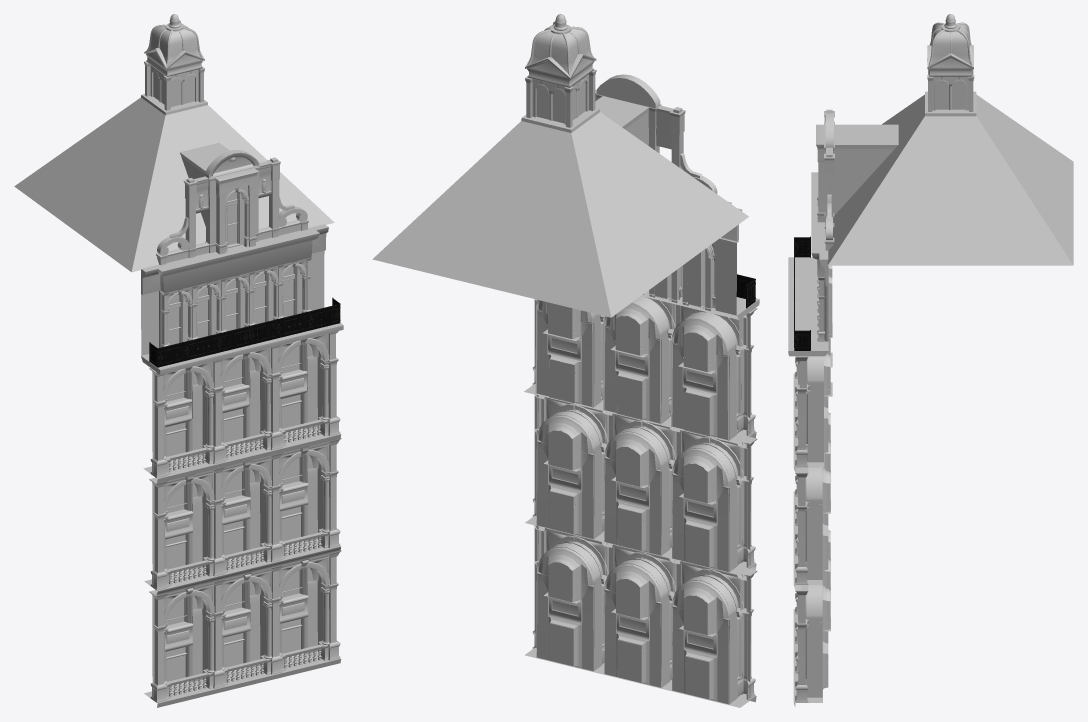
The model's file is backup.fbx.
The picture shows the model from 3 angles, left to right: view 1: azimuth 30°, elevation 25°; view 2: azimuth 150°, elevation 25°; view 3: azimuth 270°, elevation 25°; orthographic projection. The views are drawn at different scales.
Parts seen in each view (by area): view 1: LODGroup_1_MainMesh_1_SubMesh_1, LODGroup_1_MainMesh_1_SubMesh_6, LODGroup_1_MainMesh_1_SubMesh_4, LODGroup_1_MainMesh_1_SubMesh_2, LODGroup_1_MainMesh_1_SubMesh_3, LODGroup_1_MainMesh_1_SubMesh_5; view 2: LODGroup_1_MainMesh_1_SubMesh_1, LODGroup_1_MainMesh_1_SubMesh_6, LODGroup_1_MainMesh_1_SubMesh_3; view 3: LODGroup_1_MainMesh_1_SubMesh_6, LODGroup_1_MainMesh_1_SubMesh_1, LODGroup_1_MainMesh_1_SubMesh_3, LODGroup_1_MainMesh_1_SubMesh_4.
Boxes of the visible parts, x1,y1,x2,y2 form: LODGroup_1_MainMesh_1_SubMesh_1: [141, 14, 343, 707]; LODGroup_1_MainMesh_1_SubMesh_6: [14, 97, 334, 272]; LODGroup_1_MainMesh_1_SubMesh_4: [149, 297, 340, 367]; LODGroup_1_MainMesh_1_SubMesh_2: [169, 424, 321, 696]; LODGroup_1_MainMesh_1_SubMesh_3: [141, 157, 324, 355]; LODGroup_1_MainMesh_1_SubMesh_5: [167, 419, 323, 685]; LODGroup_1_MainMesh_1_SubMesh_1: [521, 14, 759, 707]; LODGroup_1_MainMesh_1_SubMesh_6: [372, 112, 748, 317]; LODGroup_1_MainMesh_1_SubMesh_3: [625, 112, 736, 315]; LODGroup_1_MainMesh_1_SubMesh_6: [827, 94, 1073, 265]; LODGroup_1_MainMesh_1_SubMesh_1: [788, 14, 976, 706]; LODGroup_1_MainMesh_1_SubMesh_3: [833, 148, 893, 214]; LODGroup_1_MainMesh_1_SubMesh_4: [794, 236, 810, 350].
Bounding box in the file's own units: 870 × 2523 × 1009.
